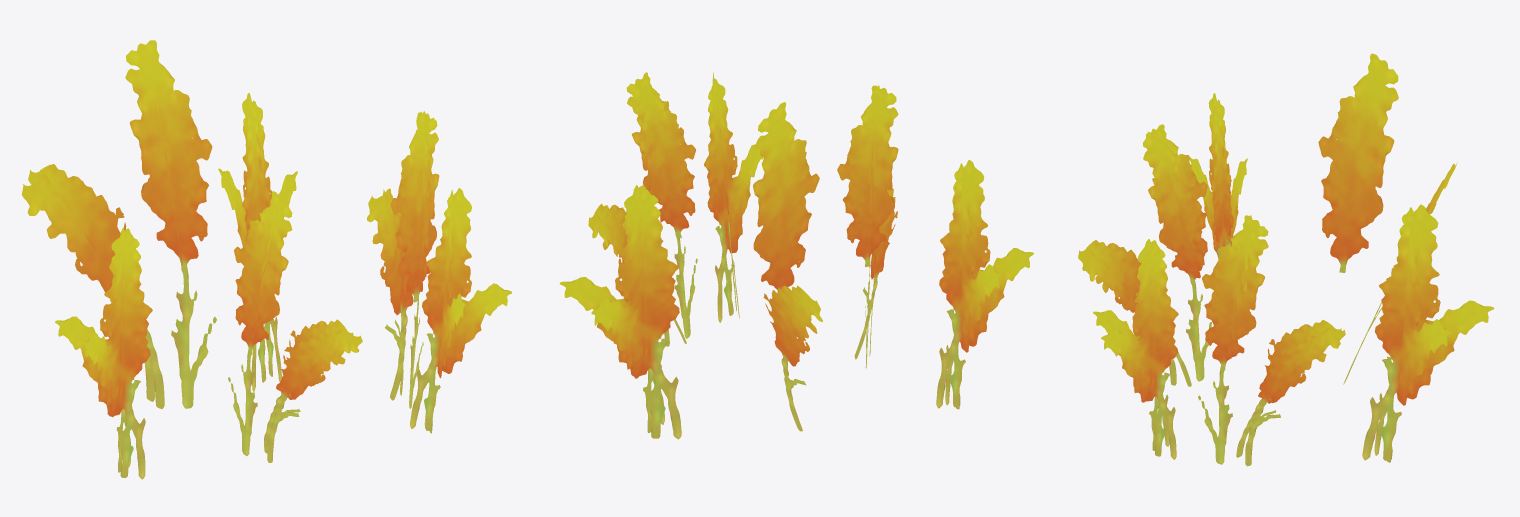
The model's file is P_Rice03.obj.
The picture shows the model from 3 angles, left to right: view 1: azimuth 30°, elevation 25°; view 2: azimuth 150°, elevation 25°; view 3: azimuth 270°, elevation 25°; orthographic projection. The views are drawn at different scales.
Size of the model in its own units: 1.19 by 1.1 by 1.19.
